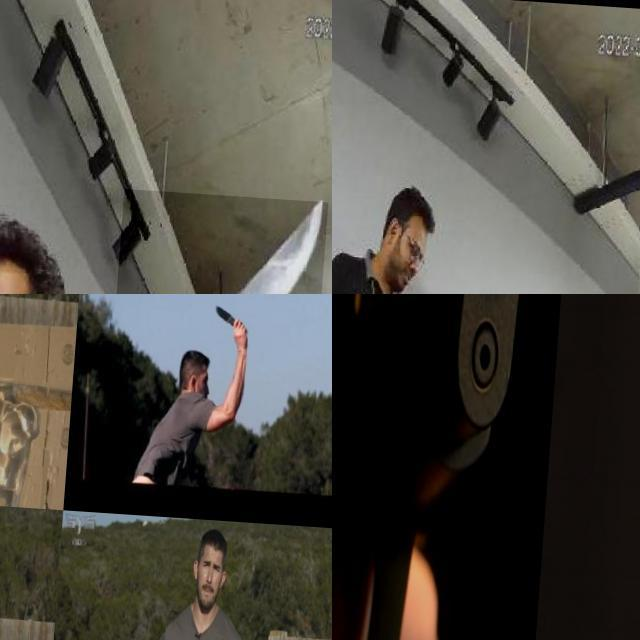-: (112, 184, 331, 294), (213, 294, 251, 330), (0, 547, 12, 628), (0, 294, 12, 354)
gun-knife-thesis - v11 Yolov5 augmented: (332, 294, 577, 640)
